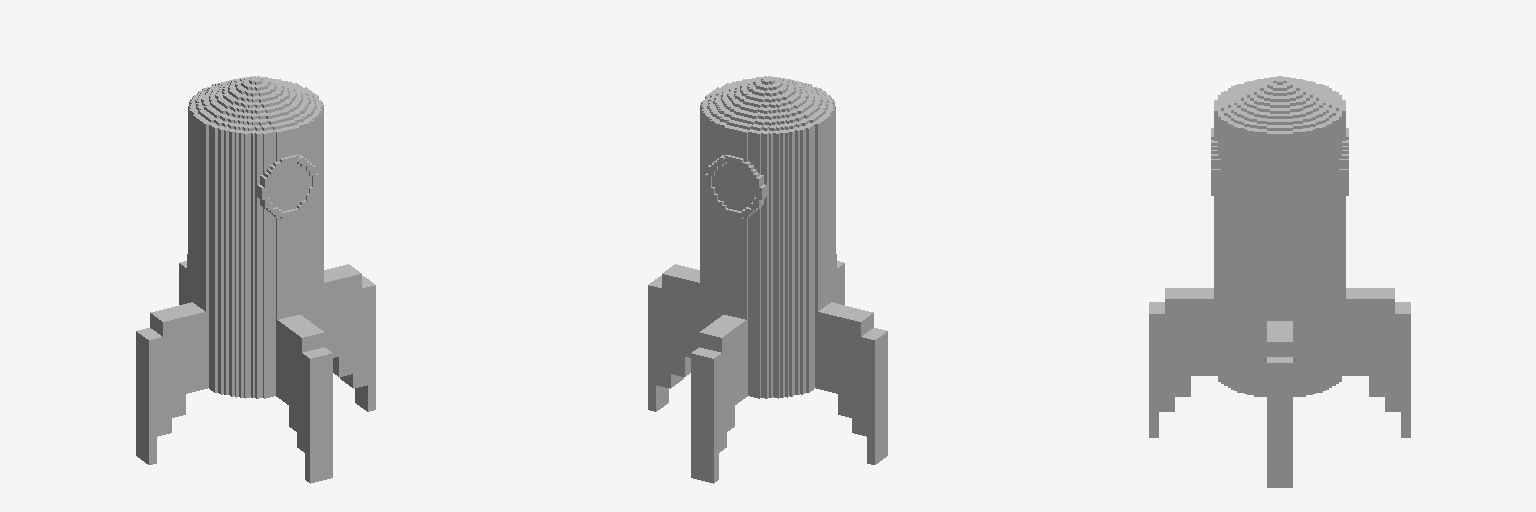
File: Rocket.obj
3 views of the same model, side by side, from view 1: azimuth 30°, elevation 25°; view 2: azimuth 150°, elevation 25°; view 3: azimuth 270°, elevation 25° (orthographic).
Visible parts, largest first — view 1: object 1; view 2: object 1; view 3: object 1.
Boxes of the visible parts, x1,y1,x2,y2 form: object 1: [136, 76, 375, 483]; object 1: [648, 76, 887, 483]; object 1: [1149, 76, 1410, 487].
Size of the model in its own units: 8 by 11.9 by 8.